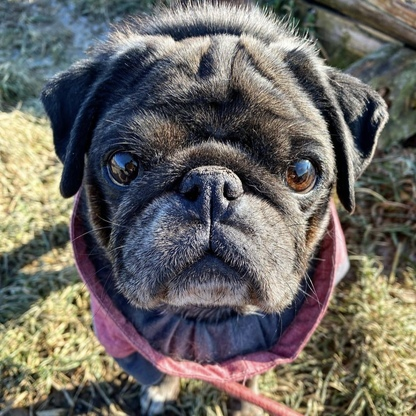Pug: (34, 2, 392, 416)
